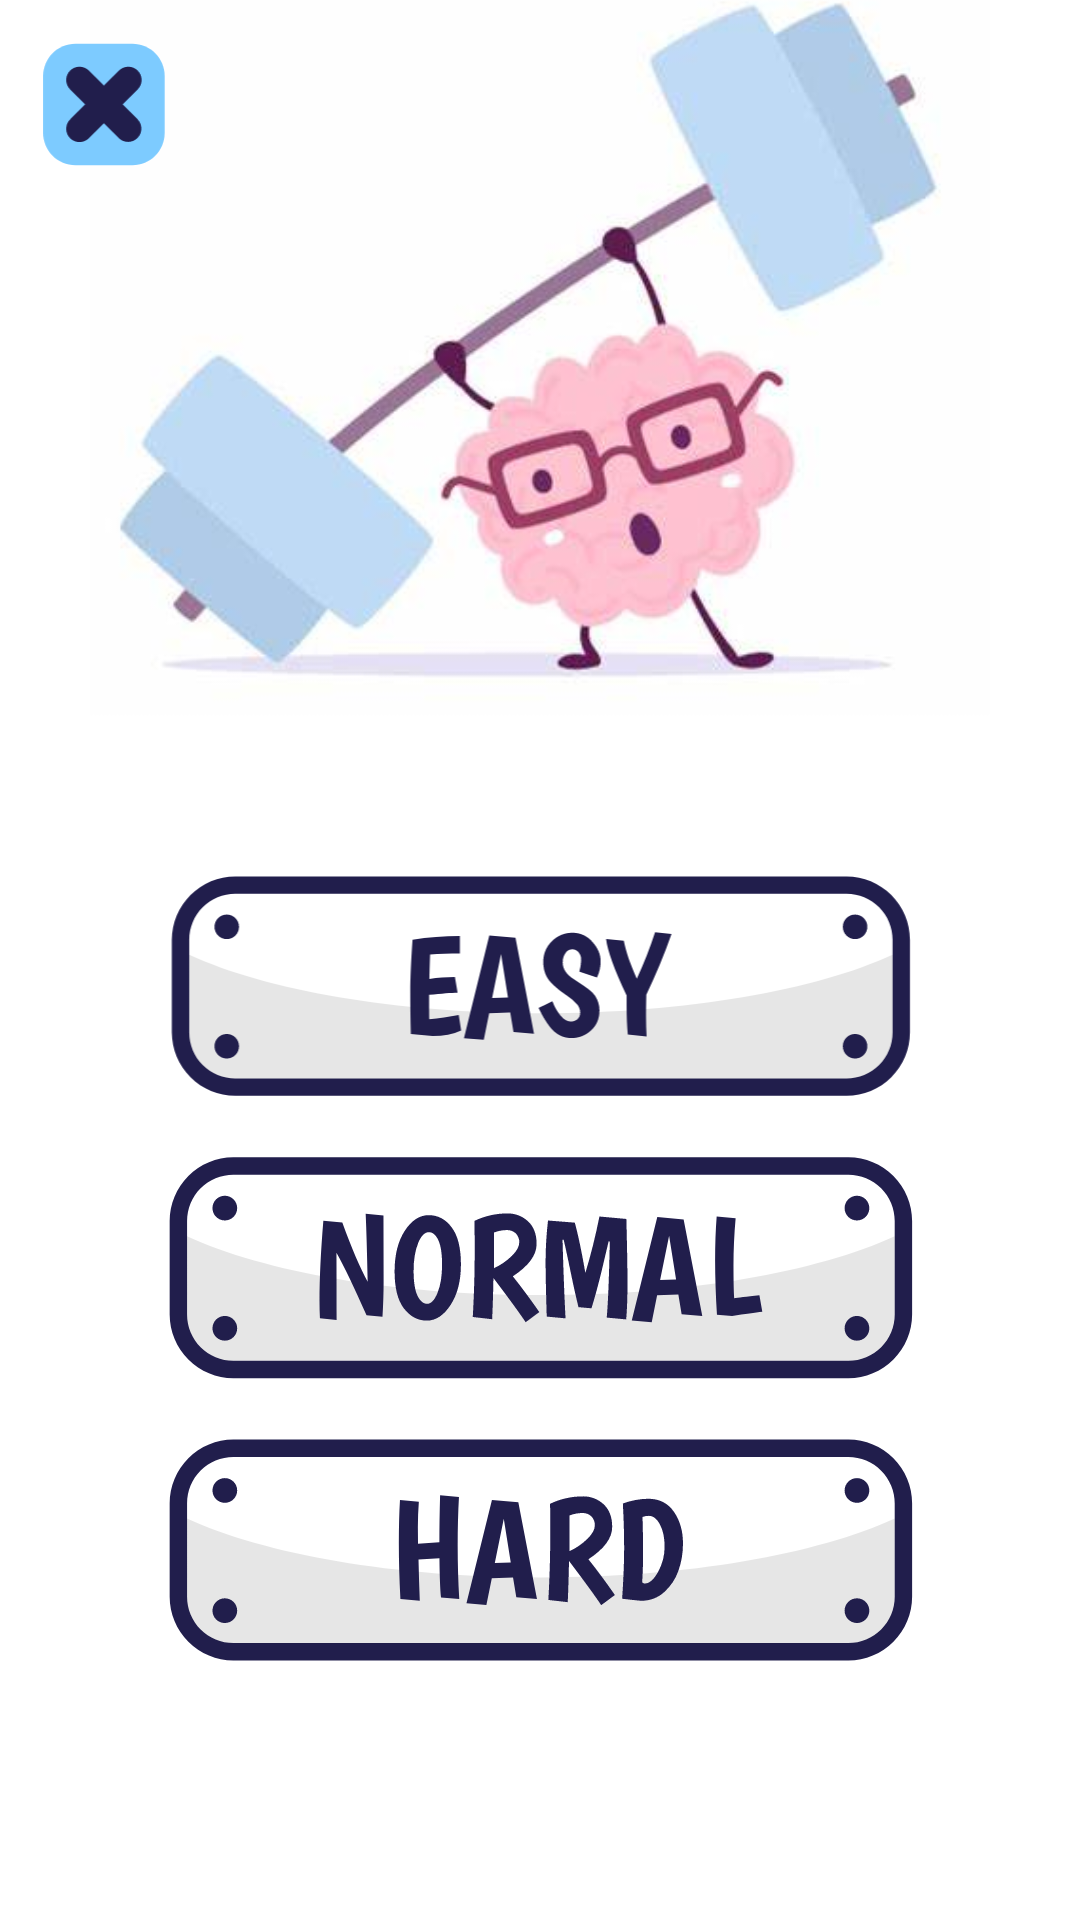

Locate icon controls on the screen. Image size 1080×1920, boxes as rect(x1, y1, x2, y2).
close: rect(43, 43, 165, 166)
